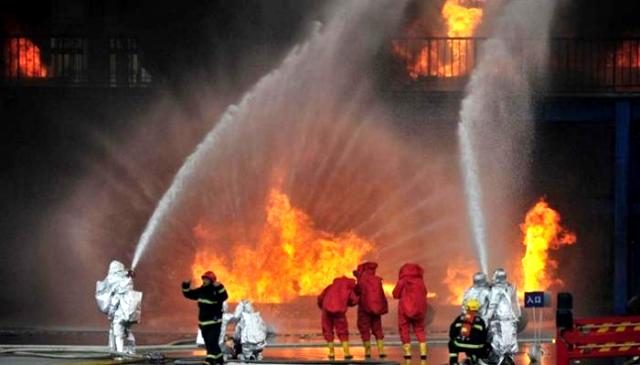fire: (188, 181, 374, 307)
